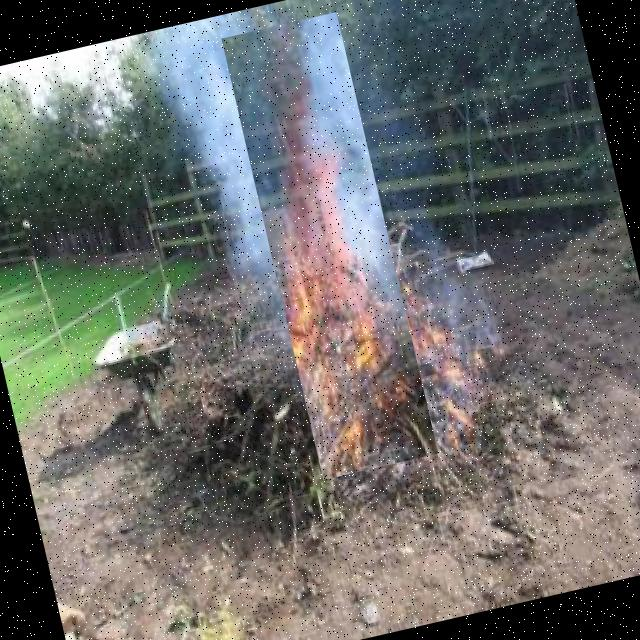fire: (221, 12, 438, 480)
